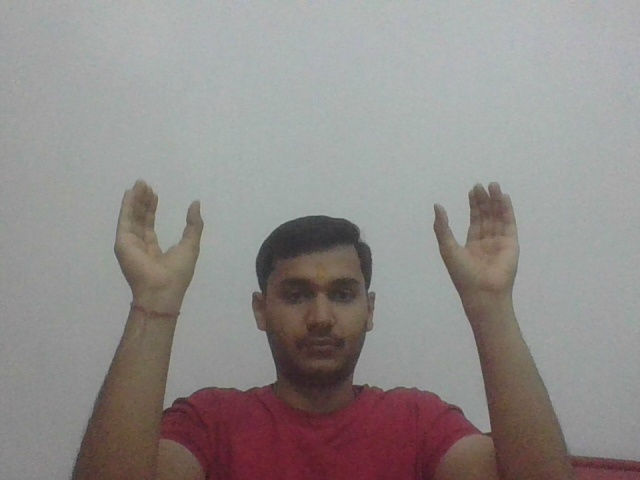U: (428, 176, 529, 301), (114, 178, 206, 302)
